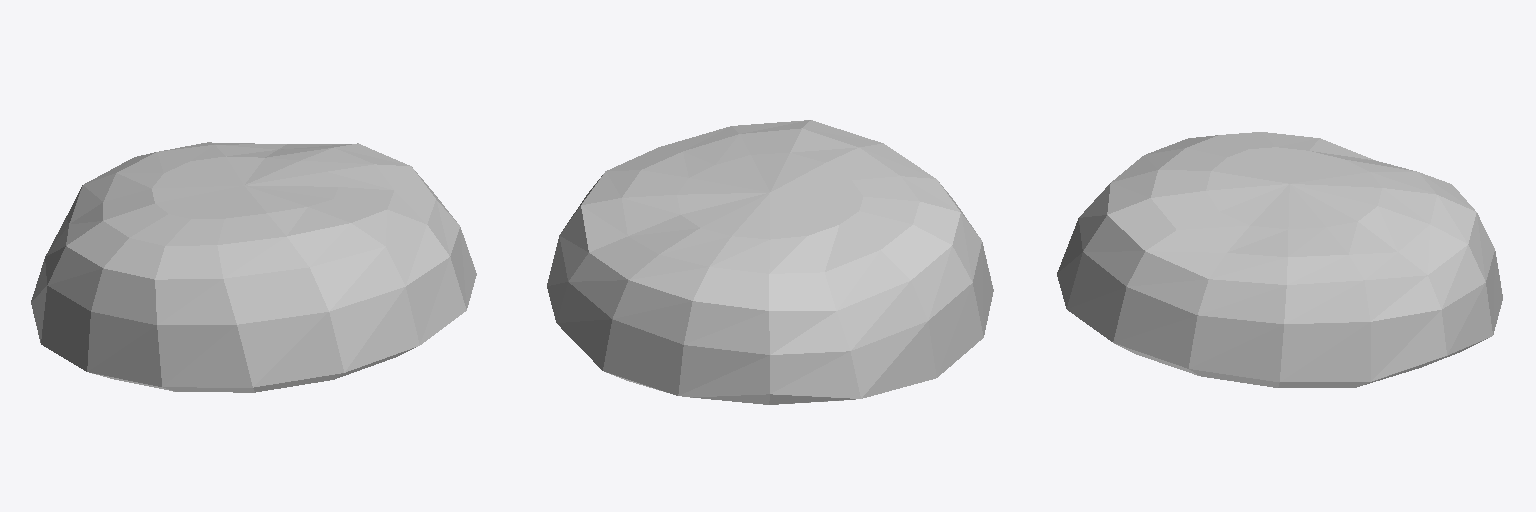
File: shroom1.obj
3 views of the same model, side by side, from view 1: azimuth 30°, elevation 25°; view 2: azimuth 150°, elevation 25°; view 3: azimuth 270°, elevation 25° (orthographic).
Visible parts, largest first — view 1: shroom1; view 2: shroom1; view 3: shroom1.
Part boxes in pixels (left/top/right/bottom): shroom1: left=31, top=142, right=476, bottom=392; shroom1: left=547, top=120, right=993, bottom=404; shroom1: left=1057, top=132, right=1502, bottom=387.
Size of the model in its own units: 11.94 by 4.37 by 12.